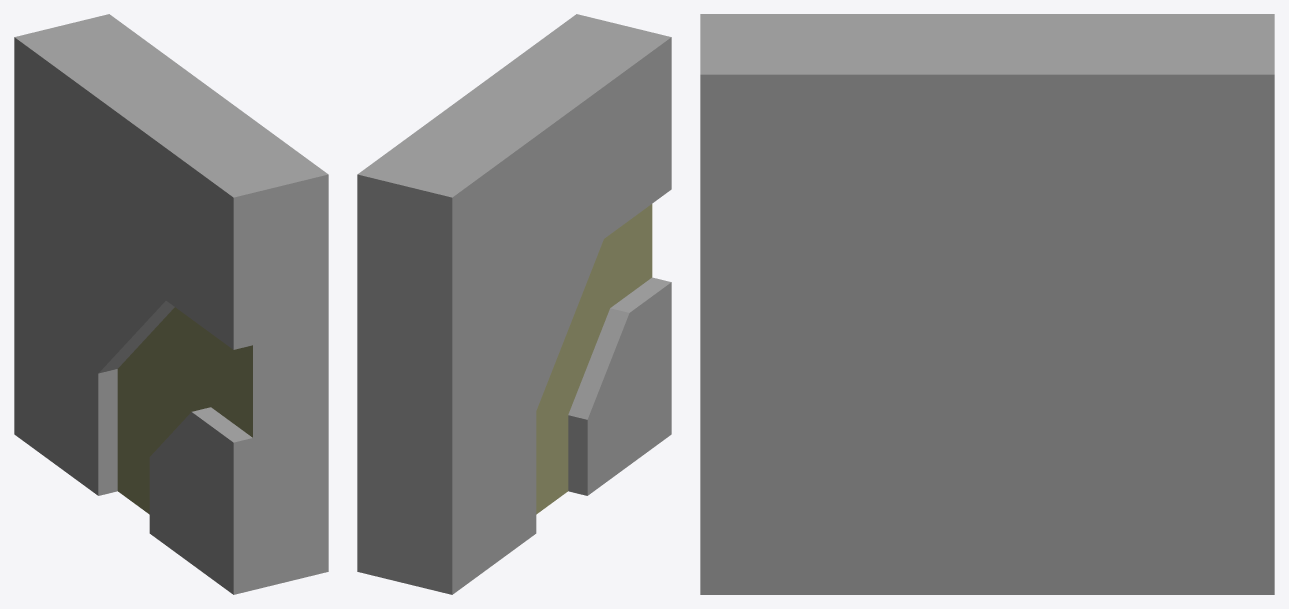
Rendered from CM_SmallGlowingCorner4x4.fbx.
3 views of the same model, side by side, from view 1: azimuth 30°, elevation 25°; view 2: azimuth 150°, elevation 25°; view 3: azimuth 270°, elevation 25° (orthographic). The views are drawn at different scales.
Visible parts, largest first — view 1: CM_SmallGlowingCorner4x4; view 2: CM_SmallGlowingCorner4x4; view 3: CM_SmallGlowingCorner4x4.
Part boxes in pixels (box(x1,y1,x2,y2)): CM_SmallGlowingCorner4x4: box(14, 14, 328, 594); CM_SmallGlowingCorner4x4: box(357, 14, 671, 594); CM_SmallGlowingCorner4x4: box(700, 14, 1274, 594).
Size of the model in its own units: 100 by 400 by 400.
